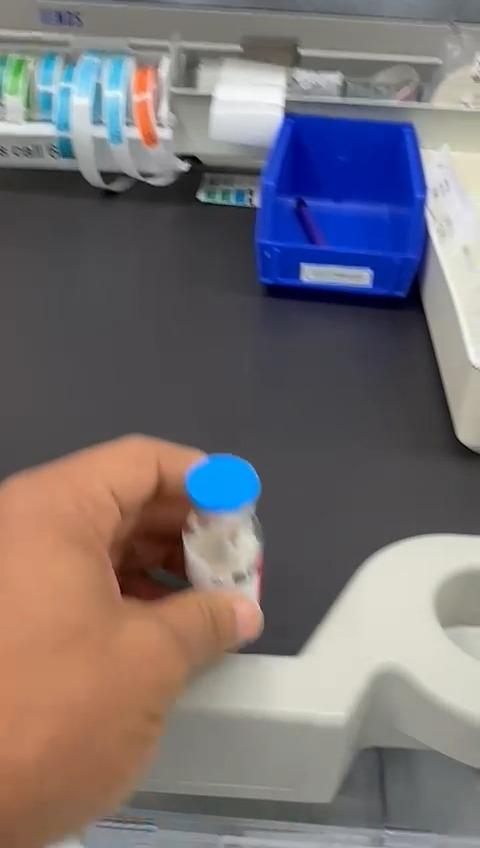cefazolin: (182, 454, 263, 600)
